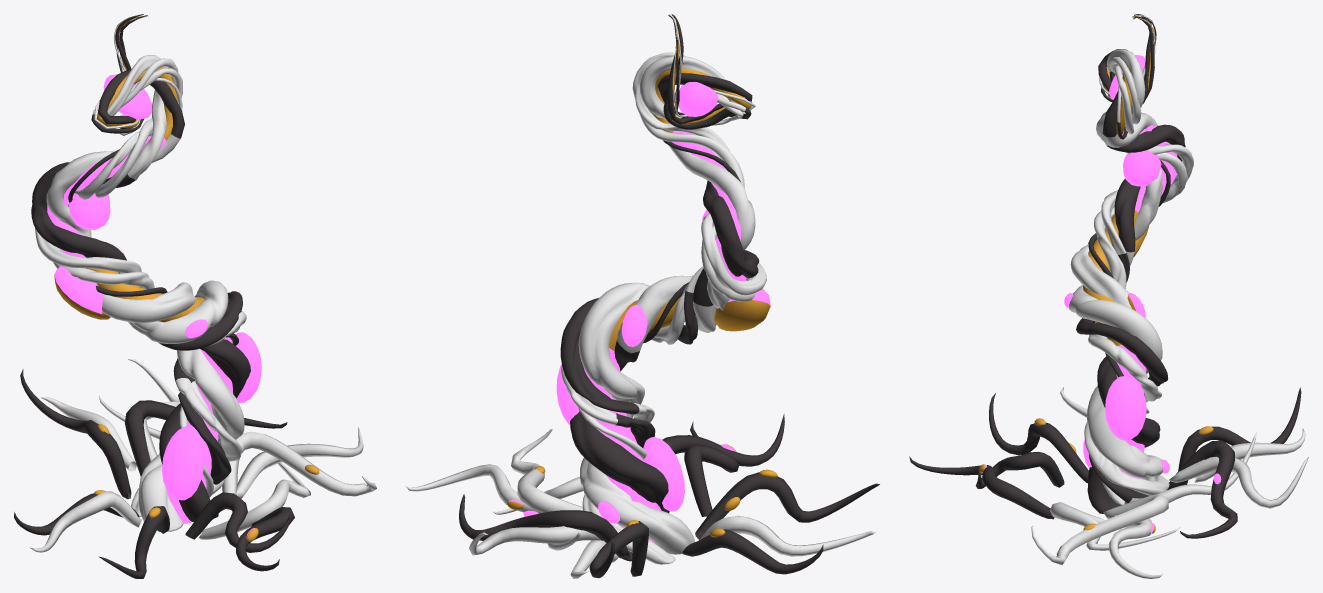
The model's file is 3D_Beacon_Spawner.fbx.
3 renders of one model, left to right at view 1: azimuth 30°, elevation 25°; view 2: azimuth 150°, elevation 25°; view 3: azimuth 270°, elevation 25°, orthographic. The views are drawn at different scales.
Visible parts, largest first — view 1: Albero_LOD0, Sfere_LOD0; view 2: Albero_LOD0, Sfere_LOD0; view 3: Albero_LOD0, Sfere_LOD0.
Boxes of the visible parts, x1,y1,x2,y2 form: Albero_LOD0: [14, 14, 376, 578]; Sfere_LOD0: [54, 74, 319, 541]; Albero_LOD0: [405, 14, 879, 578]; Sfere_LOD0: [507, 81, 777, 537]; Albero_LOD0: [909, 14, 1308, 578]; Sfere_LOD0: [978, 55, 1221, 533].
Size of what is drawn, in the model's own units: 1336 by 1752 by 1288.
